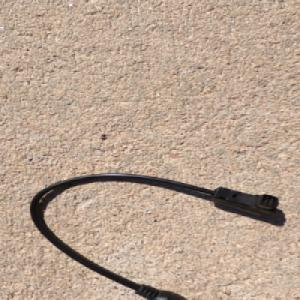Wire: (29, 167, 281, 300)
